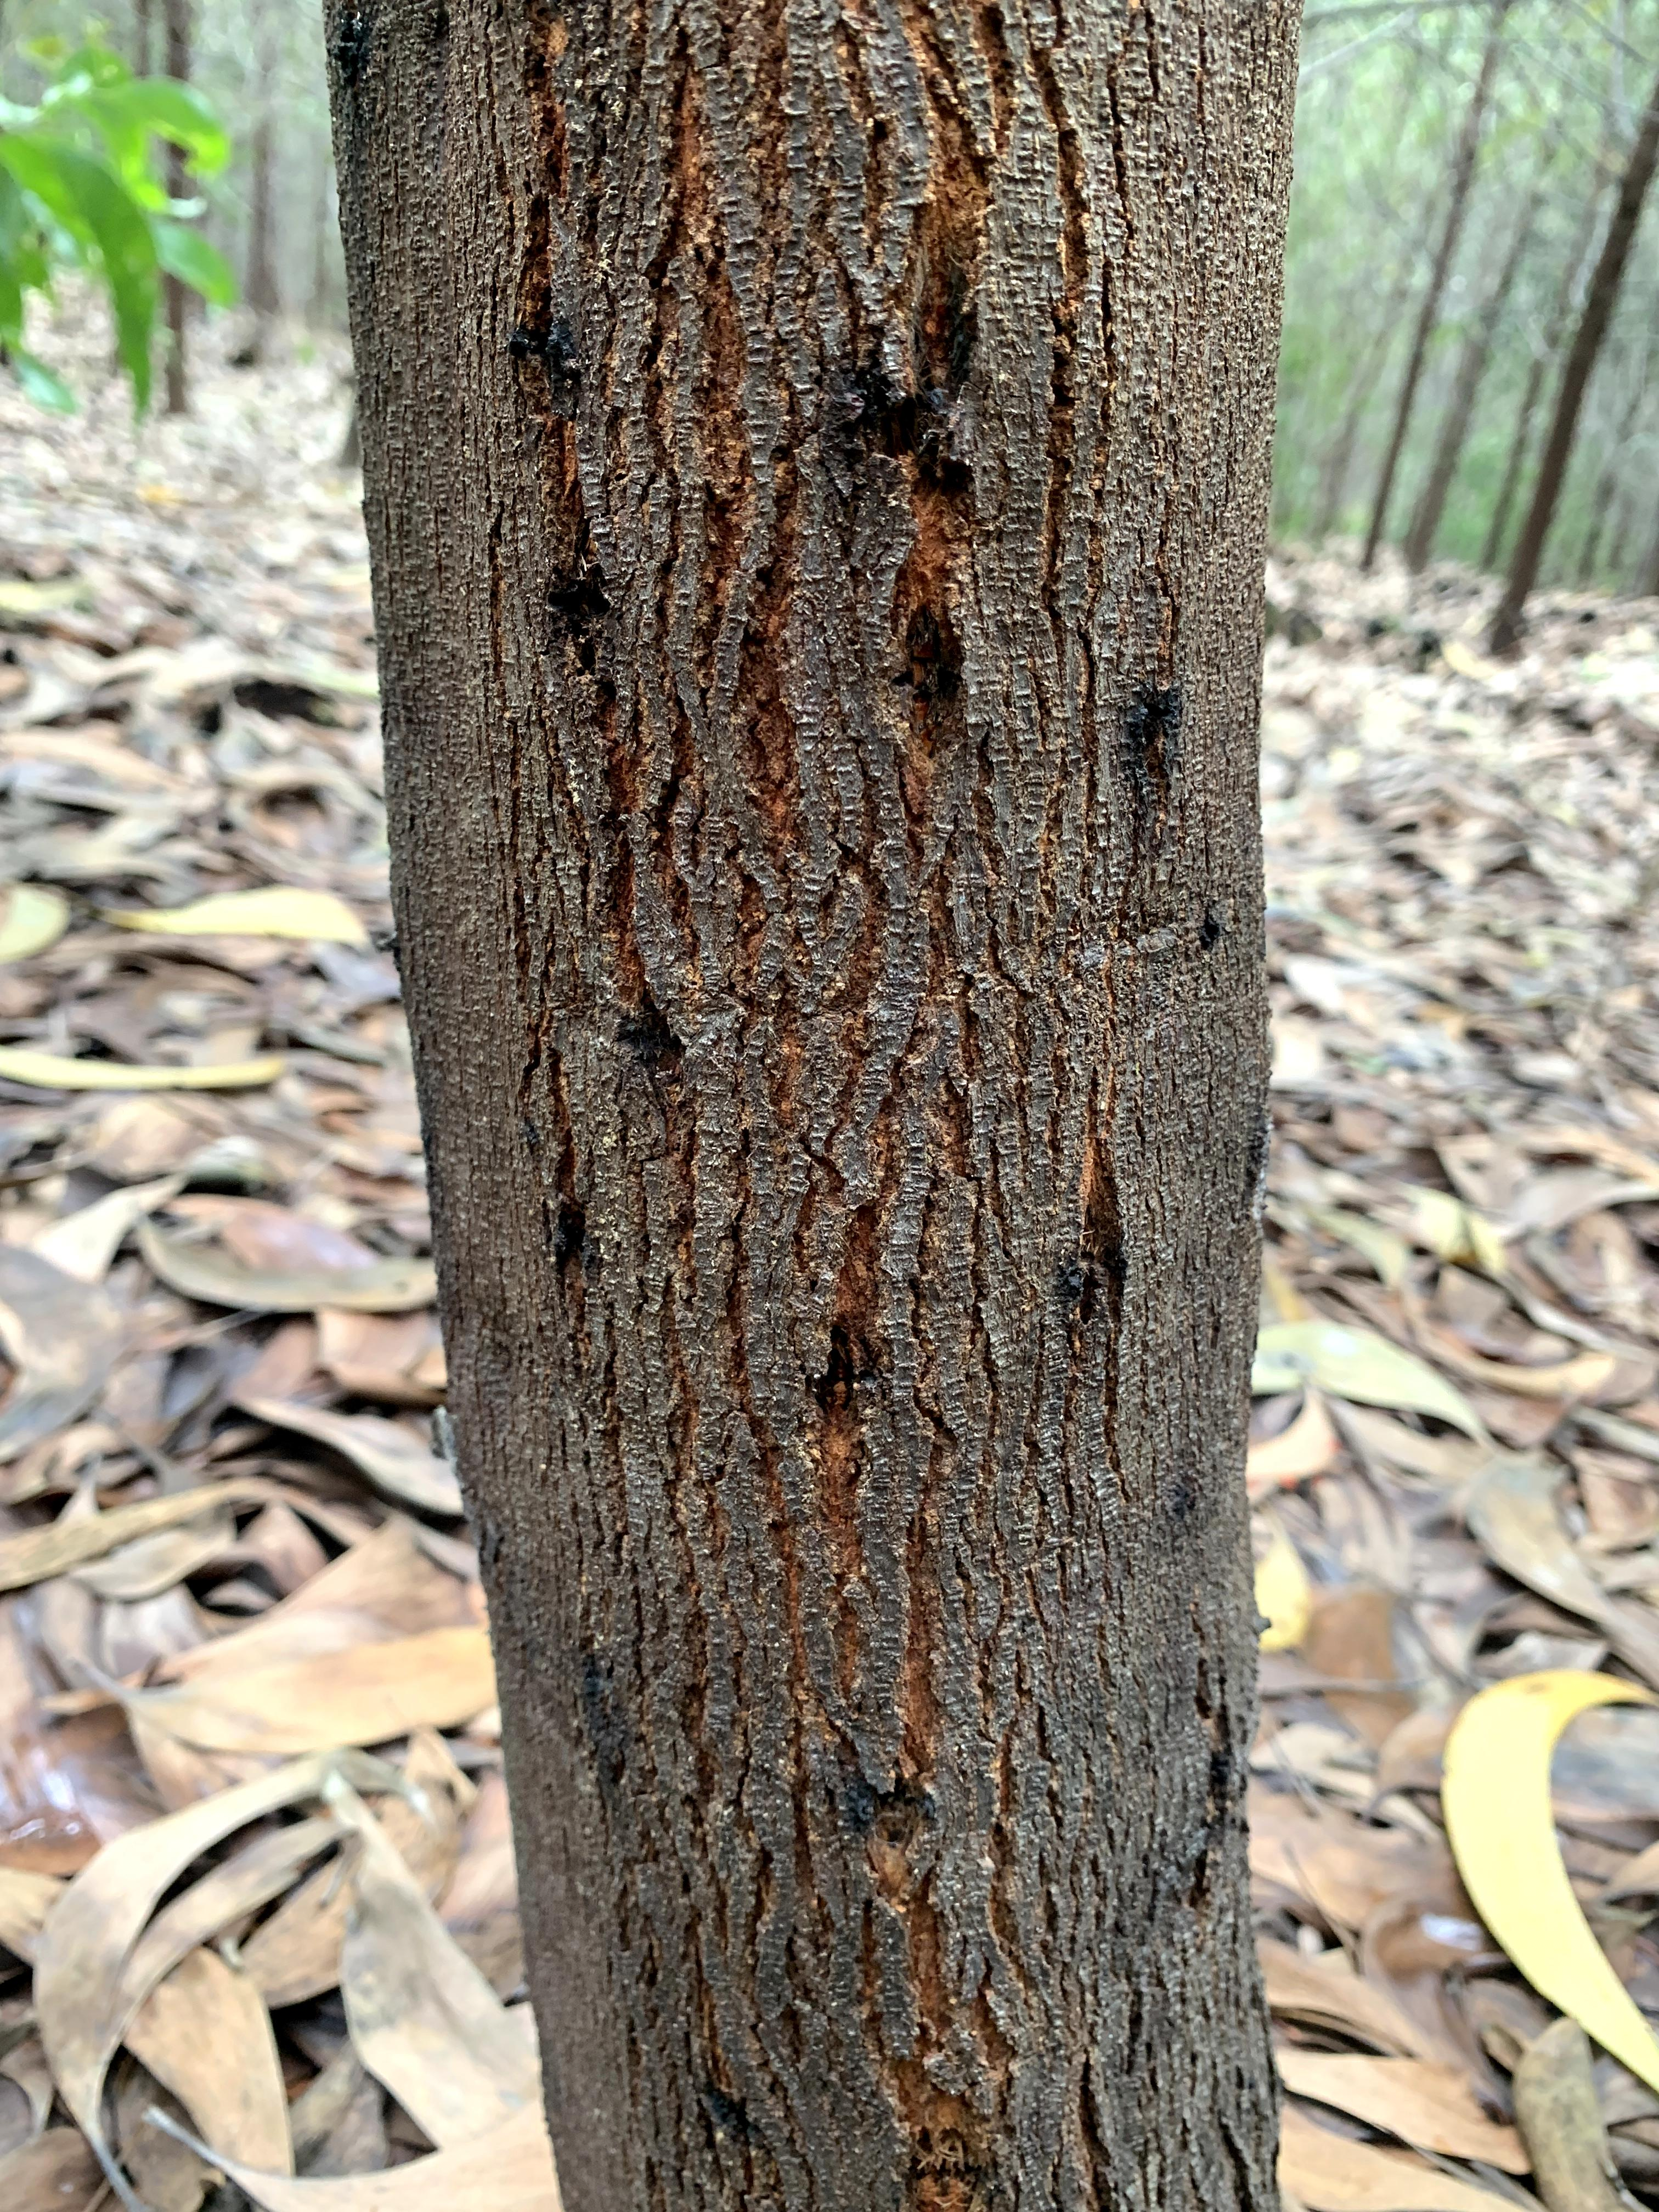Stem Borer: (828, 254, 1000, 529), (1054, 1109, 1171, 1404), (774, 1284, 925, 1489), (871, 549, 988, 786), (659, 2050, 784, 2212), (608, 941, 714, 1125), (838, 1714, 955, 1869), (1114, 660, 1201, 833), (521, 1177, 631, 1305), (483, 273, 584, 408)
